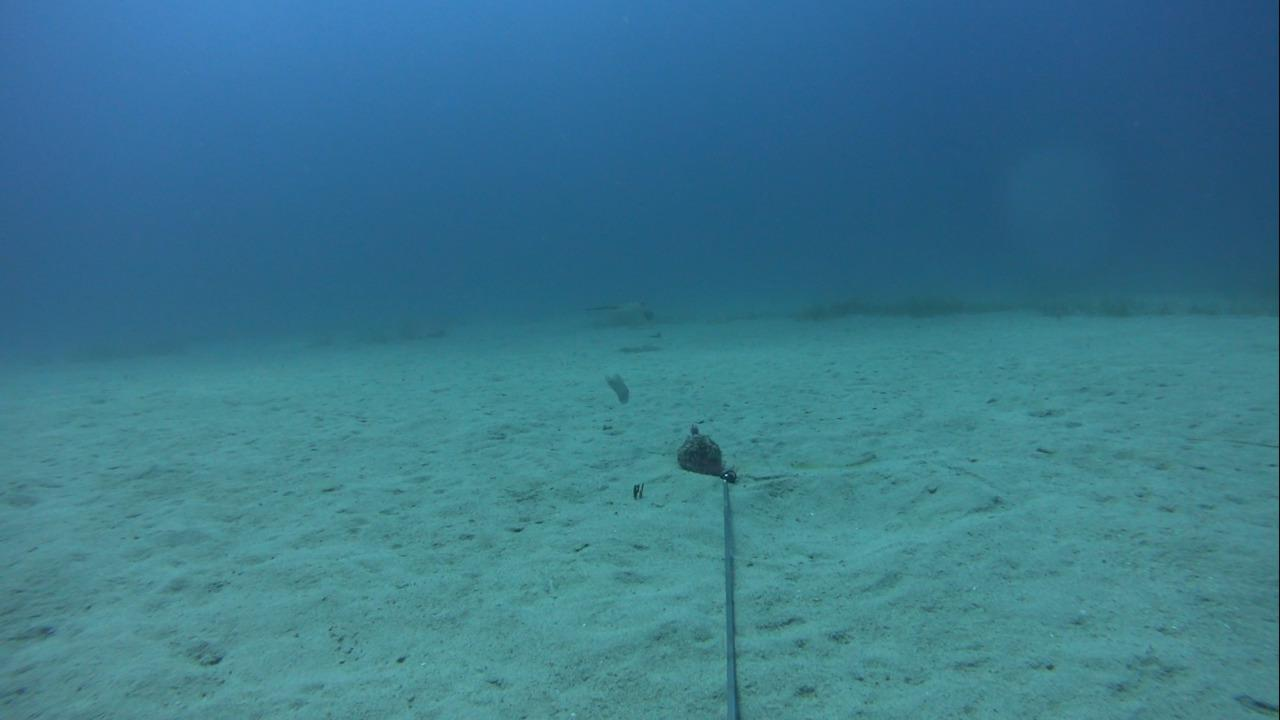myliobatis: (553, 287, 664, 329)
raor: (601, 367, 635, 409)
